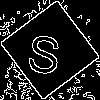S: (25, 25, 65, 76)
